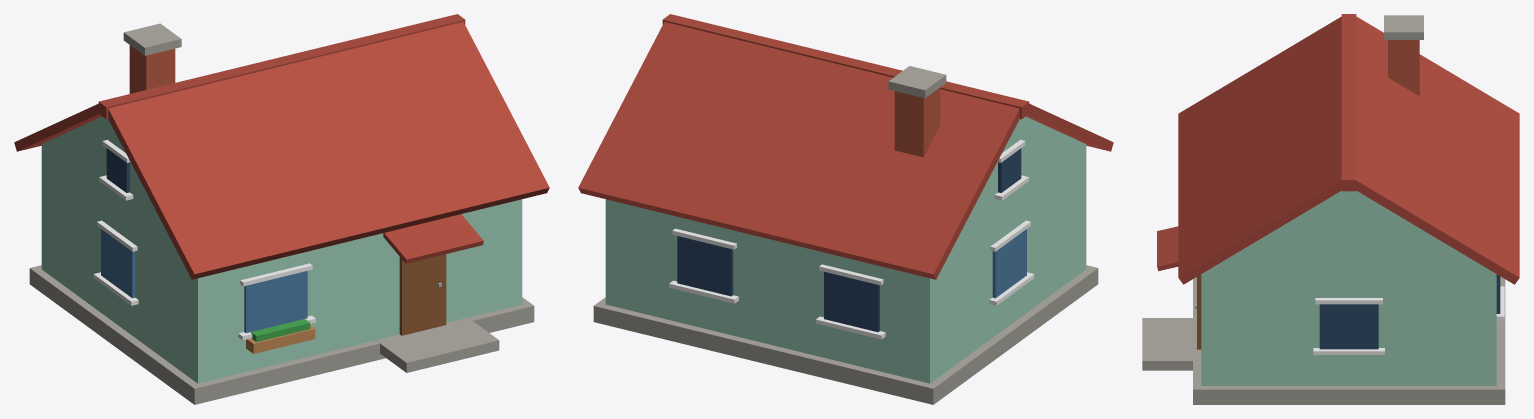
File: House_Cottage.glb
3 views of the same model, side by side, from view 1: azimuth 30°, elevation 25°; view 2: azimuth 150°, elevation 25°; view 3: azimuth 270°, elevation 25° (orthographic). The views are drawn at different scales.
Parts seen in each view (by area): view 1: House_Cottage_Mesh; view 2: House_Cottage_Mesh; view 3: House_Cottage_Mesh.
Part boxes in pixels (left/top/right/bottom): House_Cottage_Mesh: left=14, top=14, right=549, bottom=404; House_Cottage_Mesh: left=578, top=14, right=1113, bottom=404; House_Cottage_Mesh: left=1142, top=14, right=1519, bottom=404.
Size of the model in its own units: 9.3 by 6.7 by 8.94.
1 material, 1 textured.
